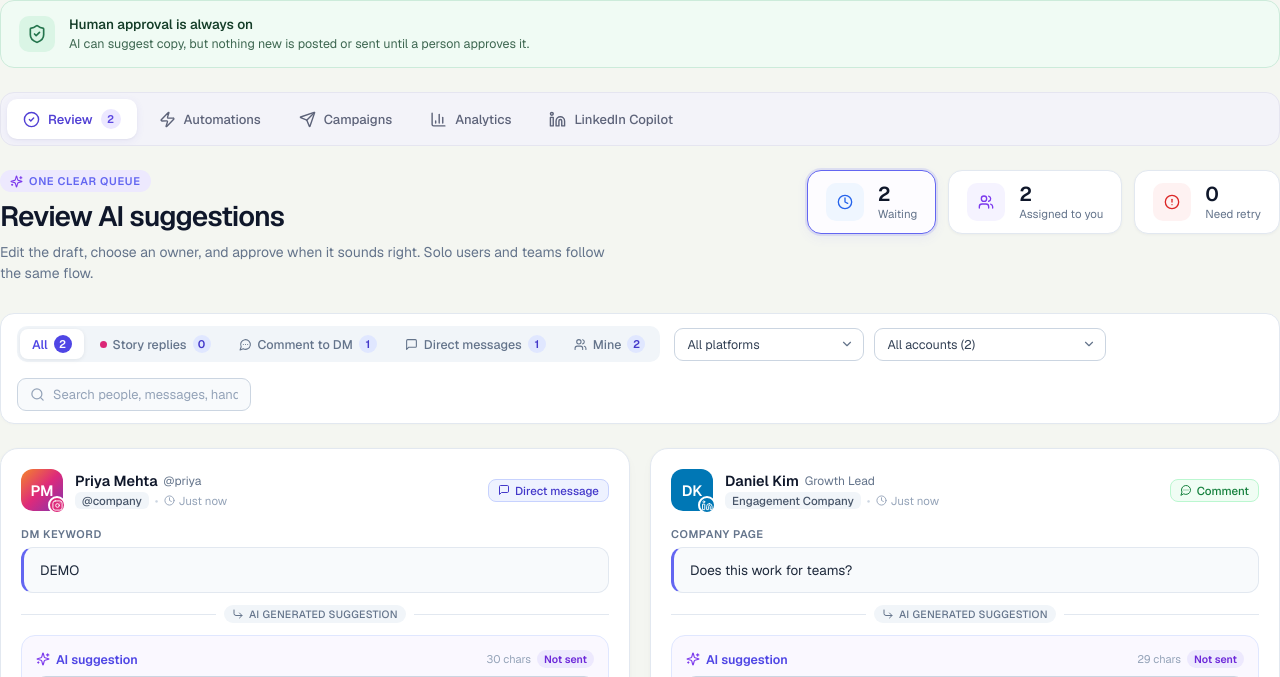
EngagementHubView › filters reviews by story replies and comment to dm
The image size is (1280, 677).
expect the text "Priya Mehta" is shown: met, box [75,472,158,490]
expect the text "Daniel Kim" is shown: met, box [725,472,799,490]
Note: Filter by Comment to DM
Click the button "Comment to DM 1": coordinates (308, 344) [226,329,389,359]
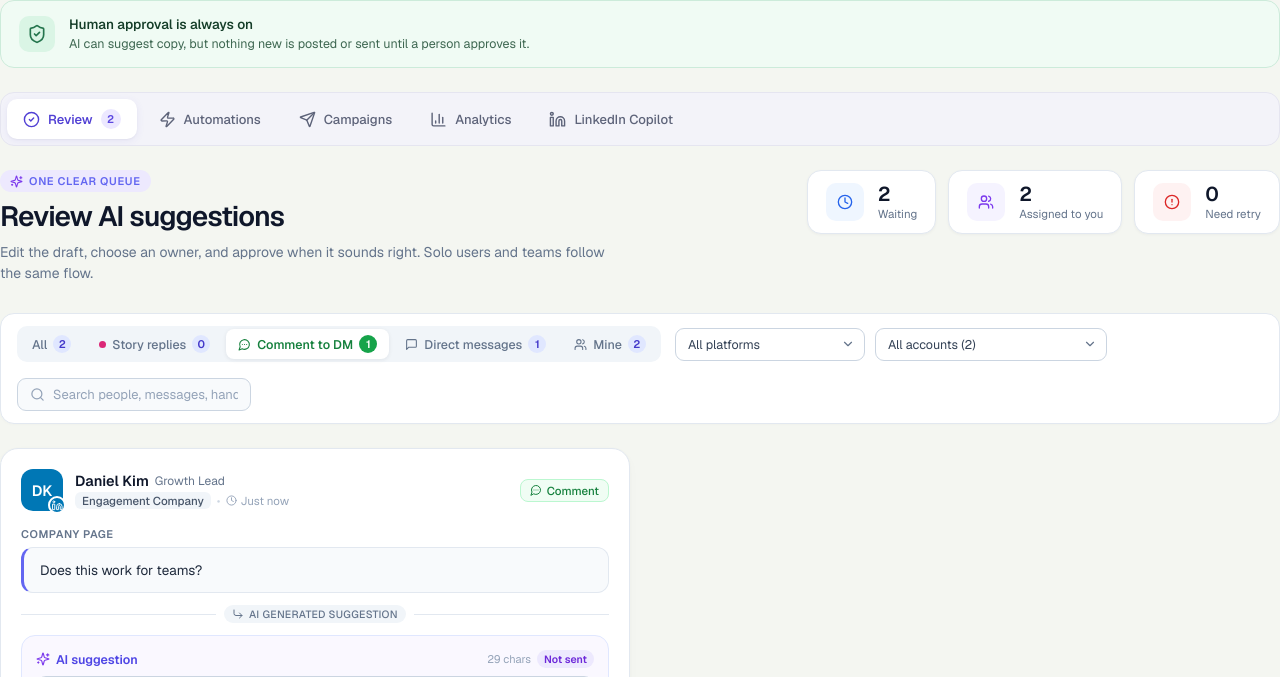
expect the text "Daniel Kim" is shown: met, box [75,472,149,490]
expect the text "Priya Mehta" is gone: met
Note: Filter by Direct messages
Click the button "Direct messages 1": coordinates (476, 344) [393,329,558,359]
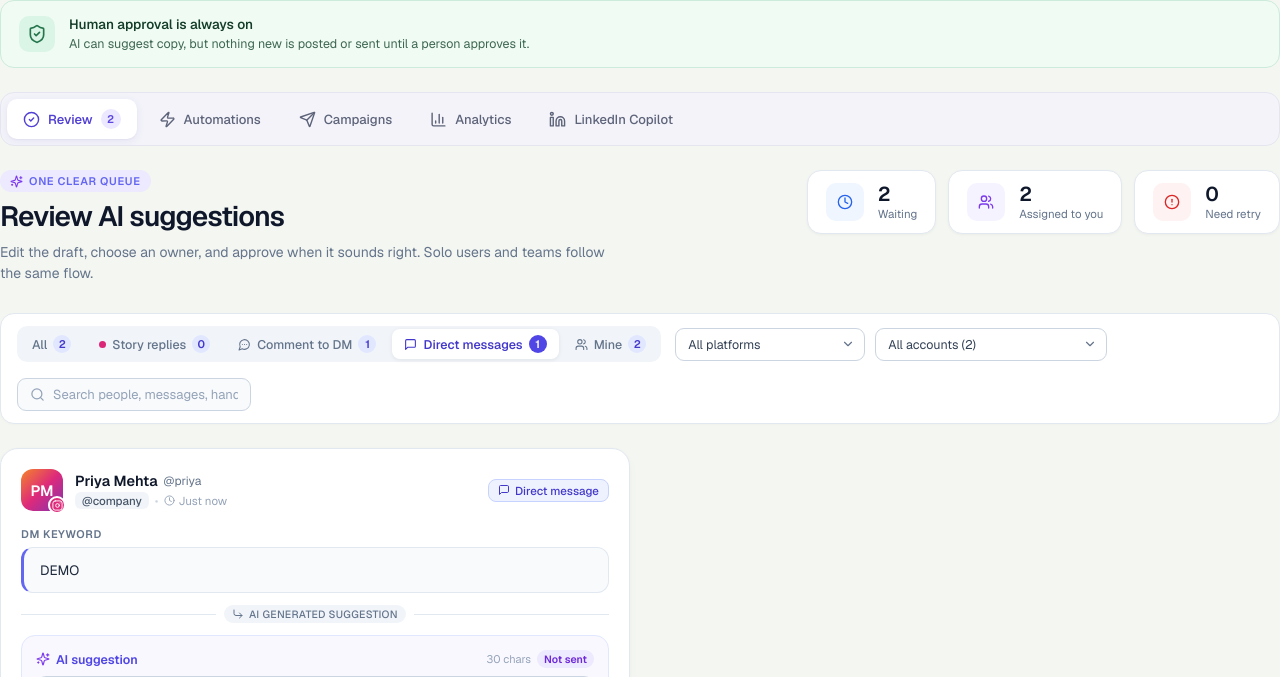
expect the text "Priya Mehta" is shown: met, box [75,472,158,490]
expect the text "Daniel Kim" is gone: met
Note: Filter by All
Click the button "All 2": coordinates (52, 344) [20,329,83,359]
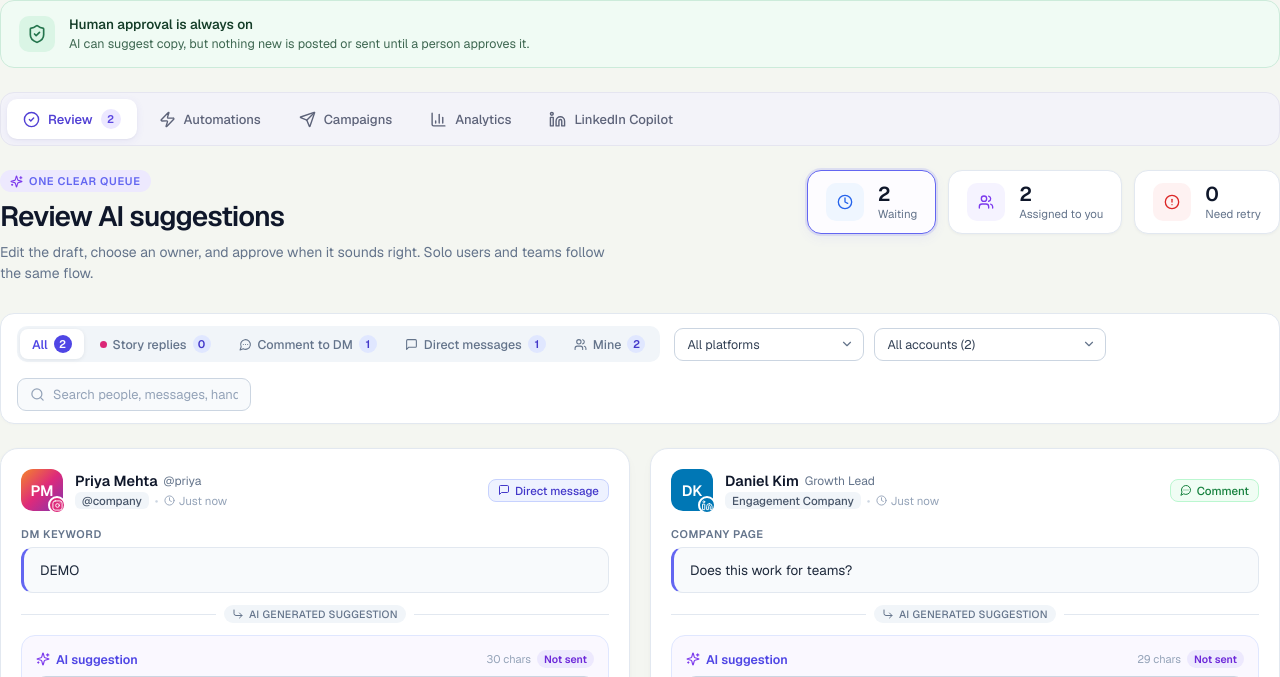
expect the text "Priya Mehta" is shown: met, box [75,472,158,490]
expect the text "Daniel Kim" is shown: met, box [725,472,799,490]
